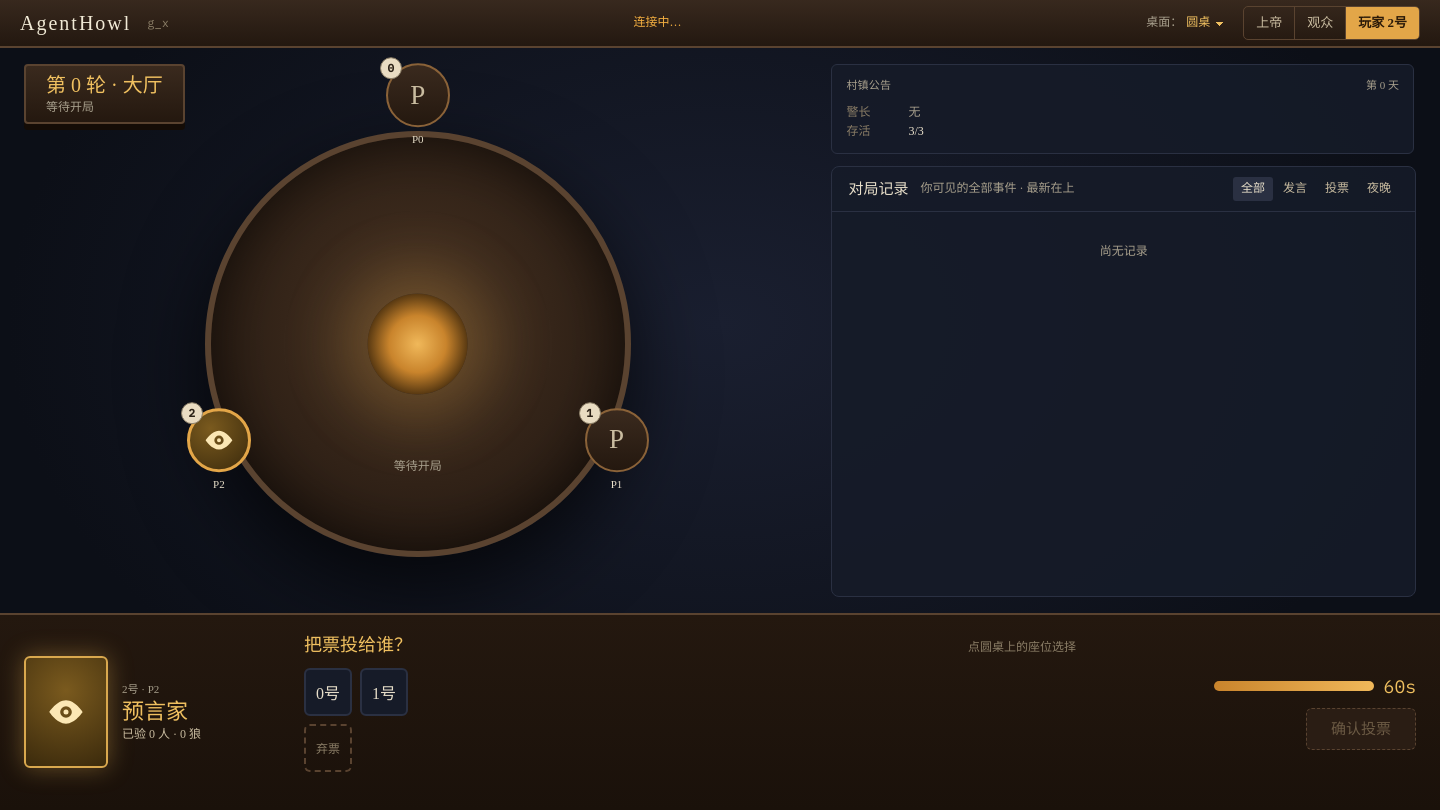
Test: GamePage 玩家视角（issue #115） › 投票中切换桌面皮肤：选中目标保留，卡牌上可选座位仍可点并同步 HUD，切回圆桌亦然（规格 §7）
Expected: the text "2号 · P2" is shown, 122,683 -> 159,695
Click the button named "0号 P0" at (418, 114), box 382,64 -> 454,165
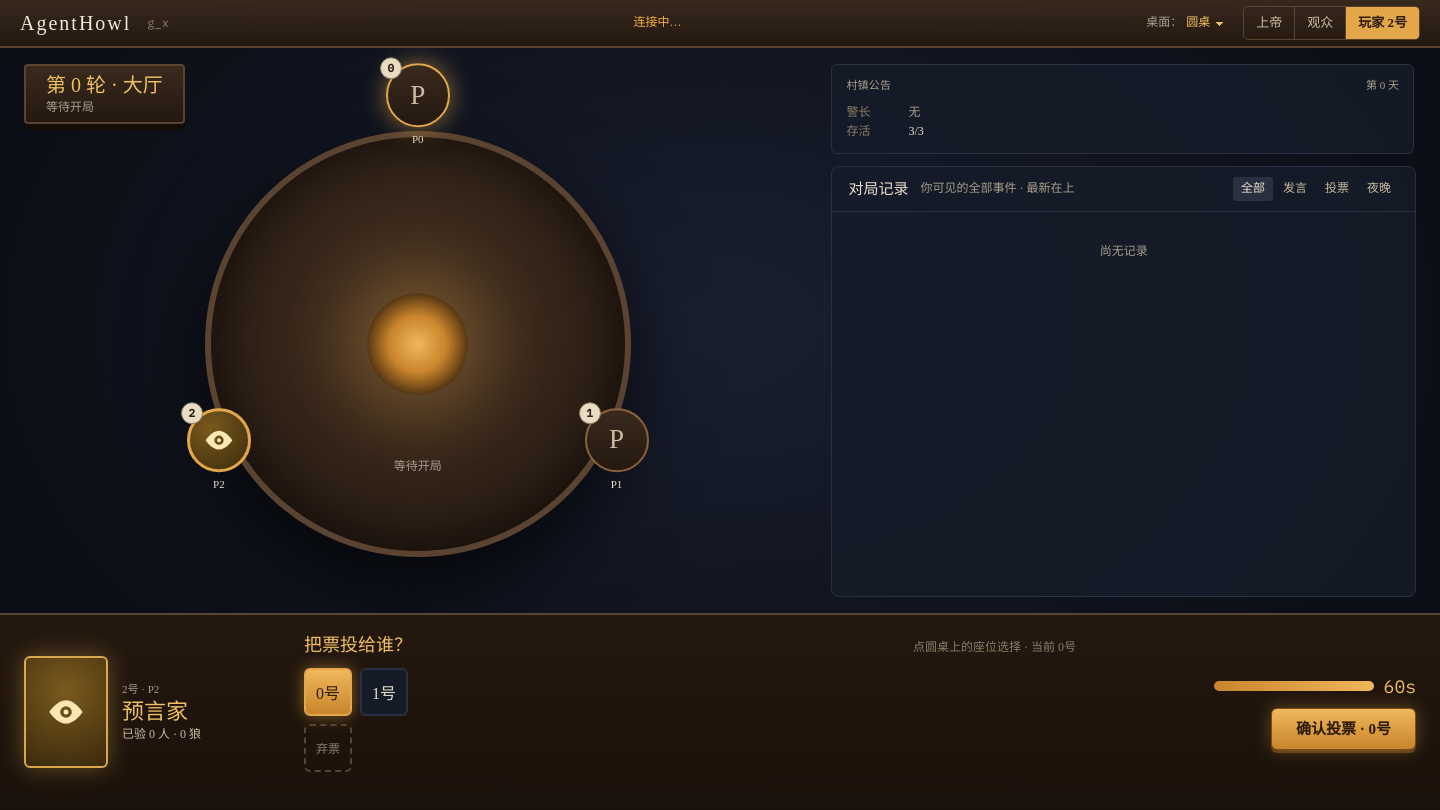
Select "卡牌" in the dropdown named "桌面皮肤" at (1206, 23), box 1184,11 -> 1227,35
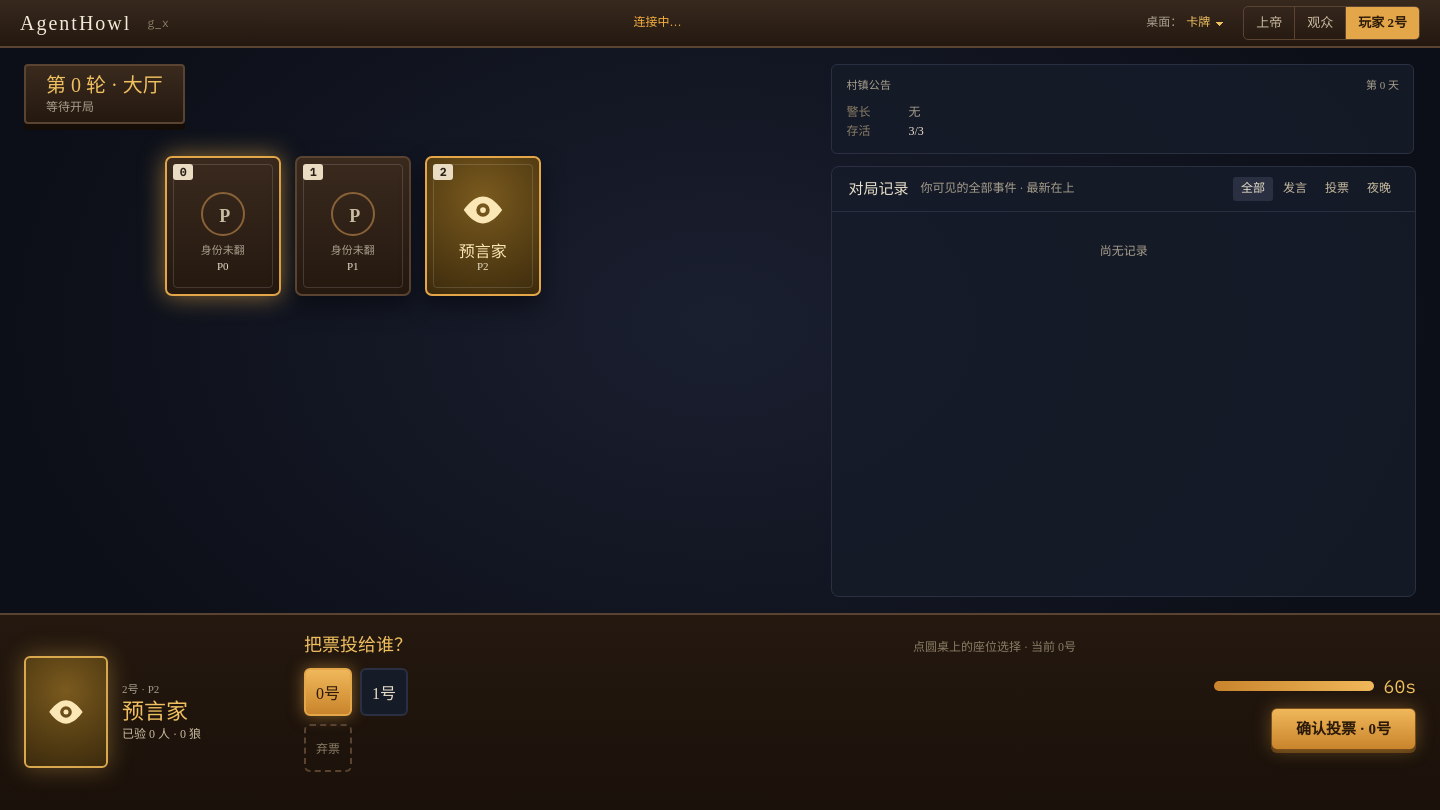
Now the button "确认投票 · 0号" is enabled, box 1271,708 -> 1416,750
Now the element with test id "card-board" is shown, box 165,156 -> 541,296
Now the button "1 P 身份未翻 P1" is shown
Click the button "1 P 身份未翻 P1" at (353, 226), box 295,156 -> 411,296
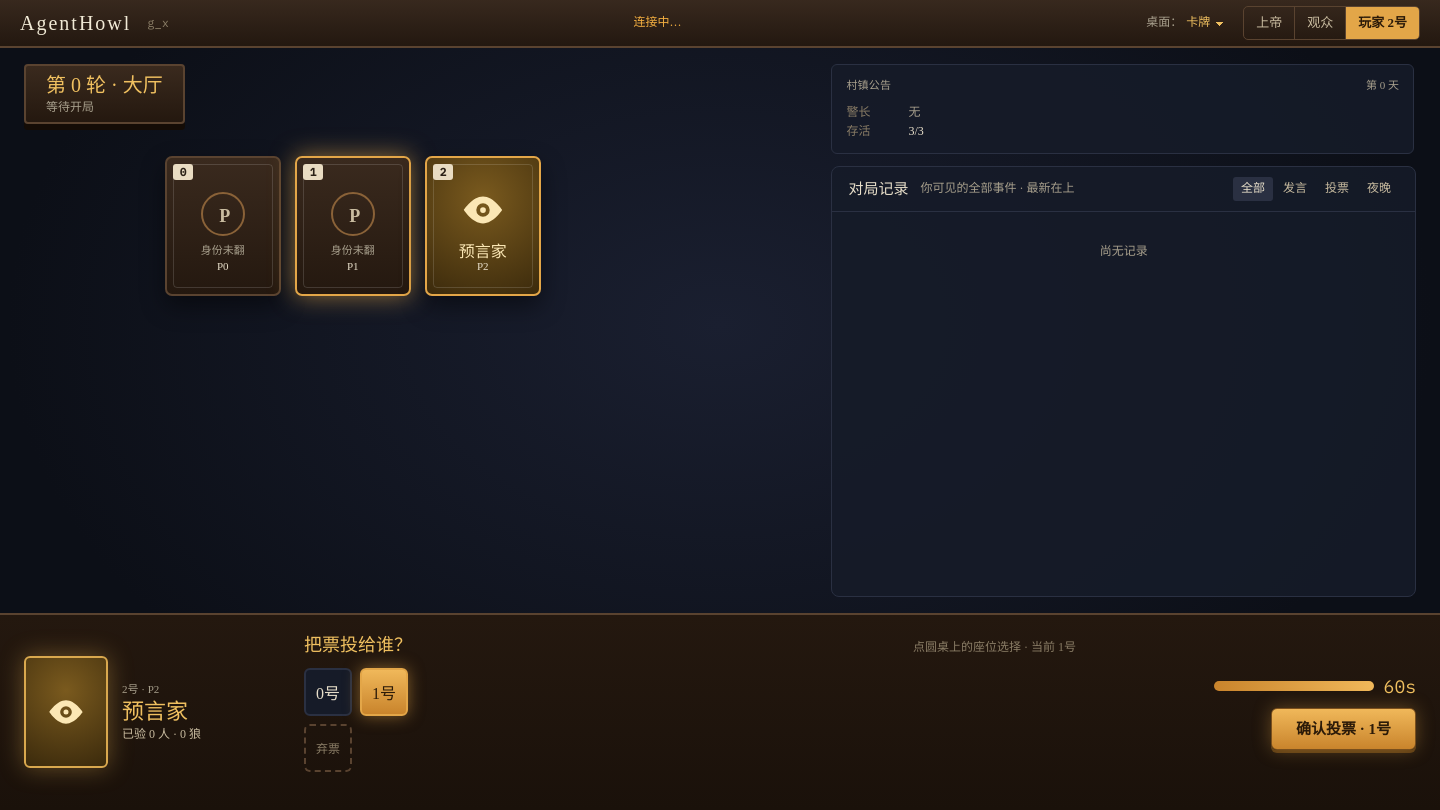
Now the button "确认投票 · 1号" is enabled, box 1271,708 -> 1416,750
Select "圆桌" in the dropdown named "桌面皮肤" at (1206, 23), box 1184,11 -> 1227,35
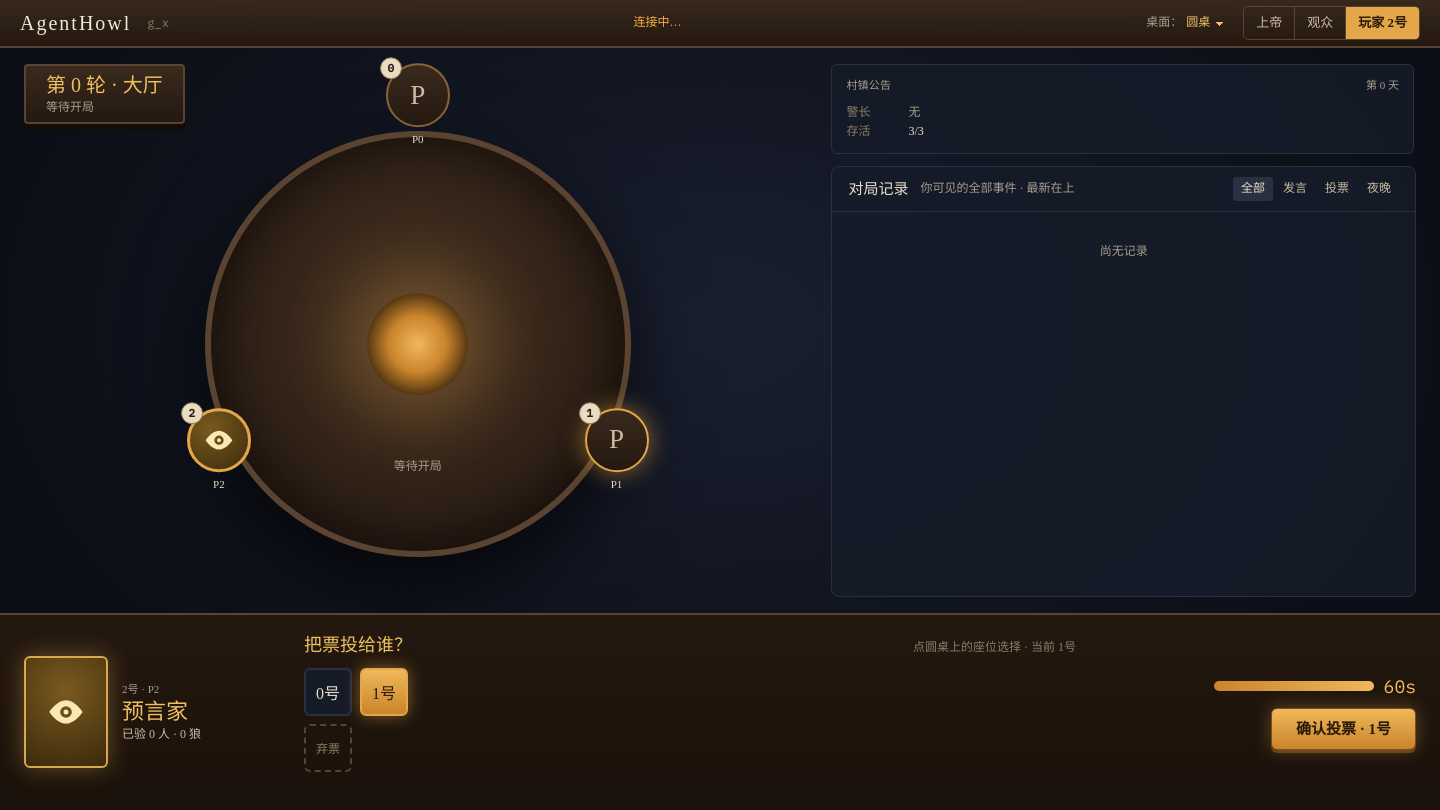
Now the element with test id "card-board" is gone
